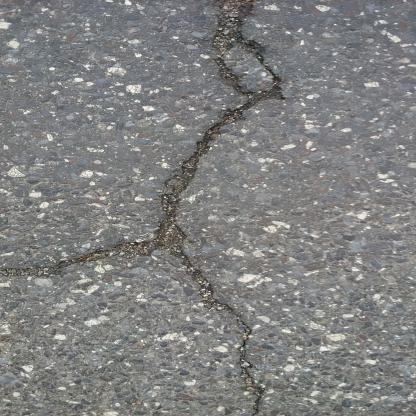Cracks: (147, 0, 293, 415), (0, 227, 193, 284)
